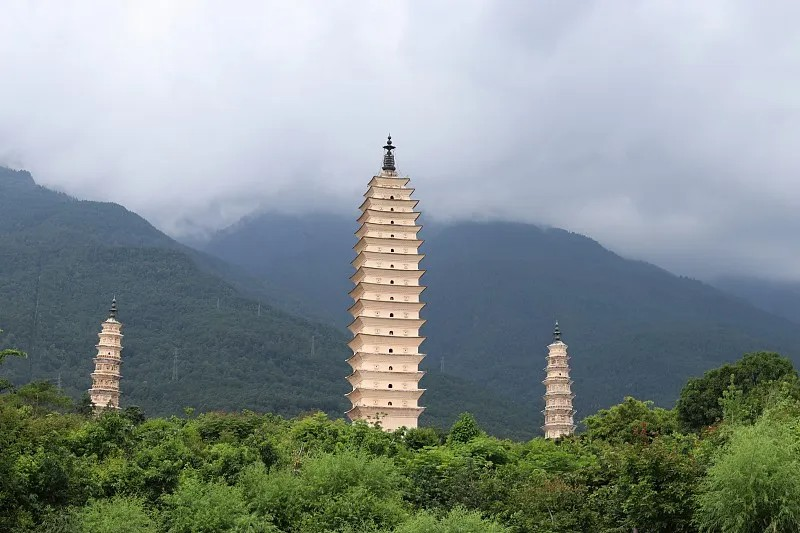ThreePagoda: (345, 133, 426, 430)
